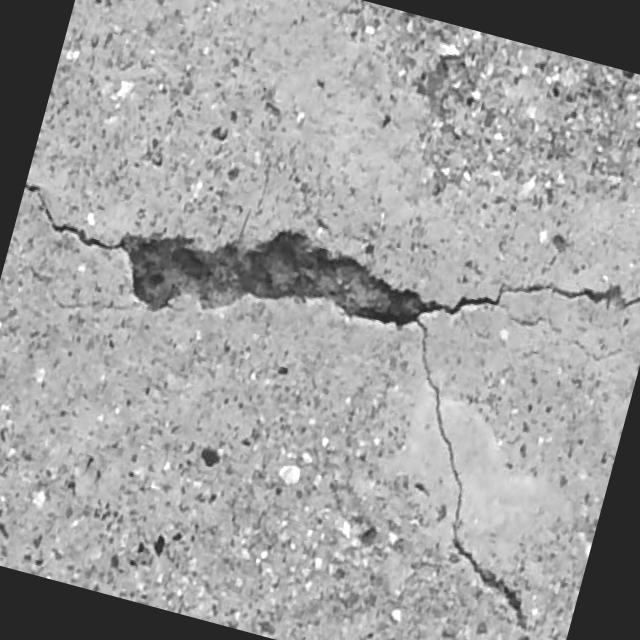crack: (343, 324, 630, 640), (426, 235, 640, 371), (15, 181, 128, 254)
spall: (102, 184, 438, 384)
